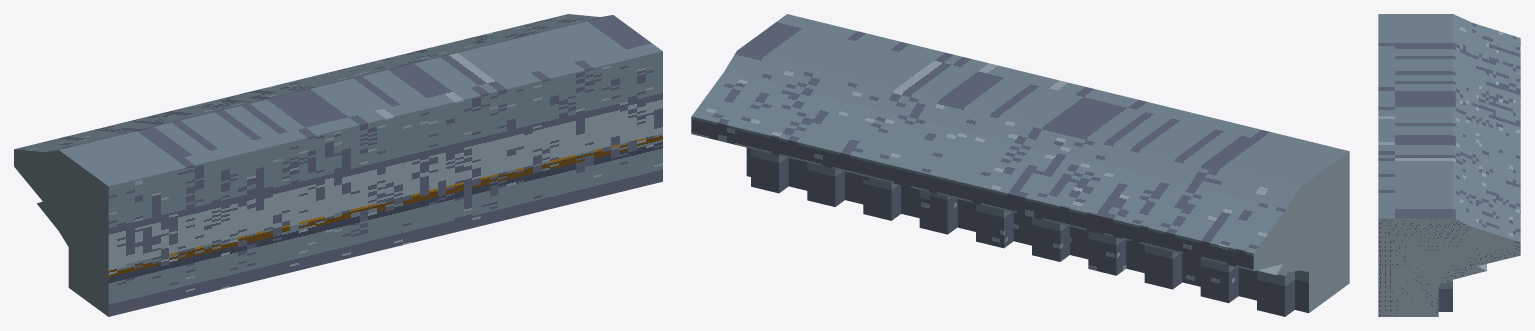
The model's file is ORN-01_Cornisa_modular.gltf.
The picture shows the model from 3 angles, left to right: view 1: azimuth 30°, elevation 25°; view 2: azimuth 150°, elevation 25°; view 3: azimuth 270°, elevation 25°; orthographic projection. The views are drawn at different scales.
Parts seen in each view (by area): view 1: ORN-01_Cornisa_modular; view 2: ORN-01_Cornisa_modular; view 3: ORN-01_Cornisa_modular.
Boxes of the visible parts, x1,y1,x2,y2 form: ORN-01_Cornisa_modular: [14, 14, 662, 316]; ORN-01_Cornisa_modular: [691, 14, 1349, 316]; ORN-01_Cornisa_modular: [1378, 14, 1520, 316].
Size of the model in its own units: 2 by 0.45 by 0.59.
1 material, 1 textured.
